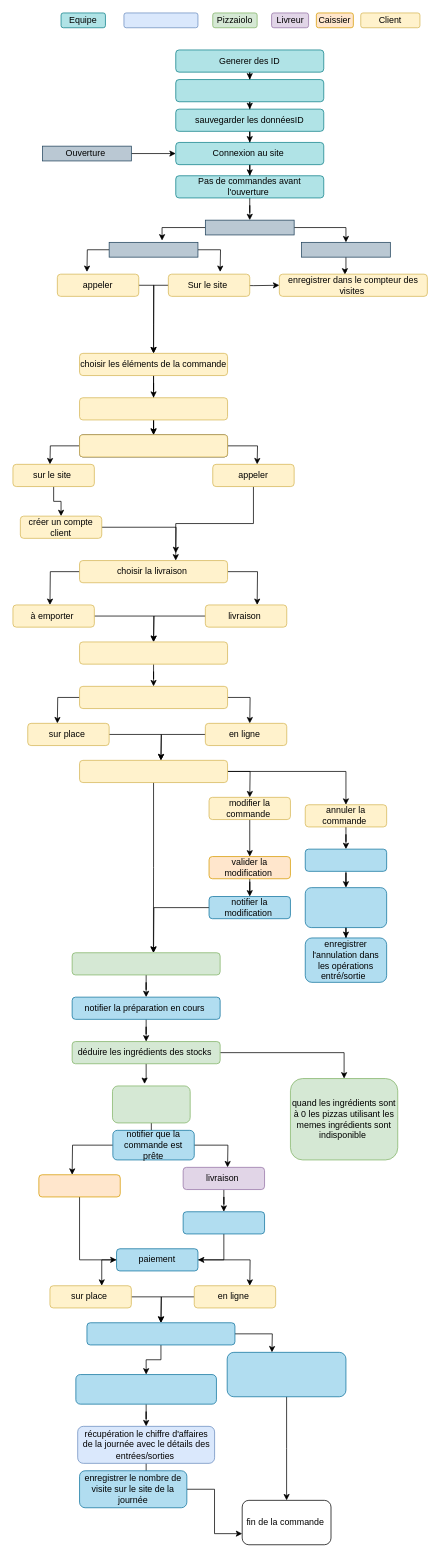
The diagram is 440 pixels wide and 1558 high, and some of its shapes have lost their labels. Each missing label, with the box of its shape:
choisir le paiement: (79, 686, 228, 709)
commander: (108, 242, 198, 257)
confirmer la commande: (79, 434, 228, 457)
confirmer la réception de la commande: (86, 1322, 235, 1345)
enregistrer la commande dans l'historique du compte client en ligne: (226, 1352, 346, 1397)
enregistrer le details de la commande dans la base des operations entré/sortie: (75, 1374, 216, 1404)
envoi de la commande au pizzaiolo avec recette des pizzas: (71, 952, 220, 975)
GénérerMDPParID: (175, 79, 324, 102)
le client veut ...: (205, 219, 294, 235)
notifier l'annulation: (305, 848, 387, 871)
notifier la livraison en cours: (182, 1211, 265, 1234)
Responsable: (123, 12, 198, 28)
retrait de la liste d'exécution une fois prête: (112, 1085, 190, 1123)
retrait sur place: (38, 1174, 120, 1197)
récapituler la commande: (79, 397, 228, 420)
sauvegarder la commande annulée dans le compte client: (305, 887, 387, 928)
valider la commande: (79, 760, 228, 783)
visiter: (301, 242, 390, 257)
vérifier les coordonnées: (79, 641, 228, 664)
